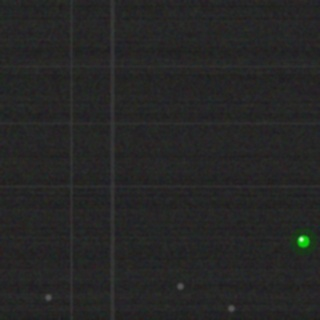green_normal: (295, 233, 311, 249)
